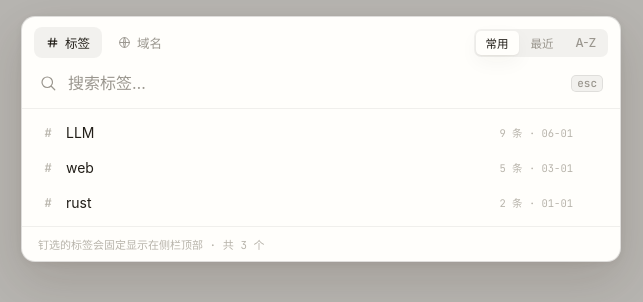
BrowsePanel › 切「最近」按 lastAt 降序
Click the button "最近": (542, 42) [520,30,564,54]
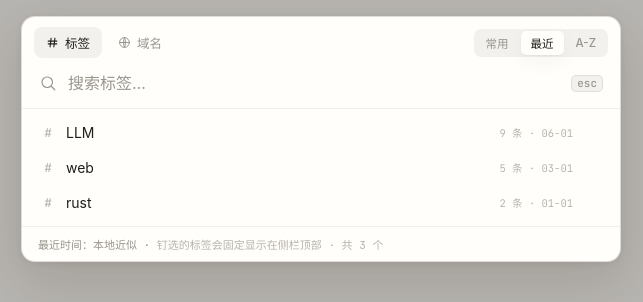
Now the text "最近时间：本地近似 ·" is shown, box [38,238,157,252]
